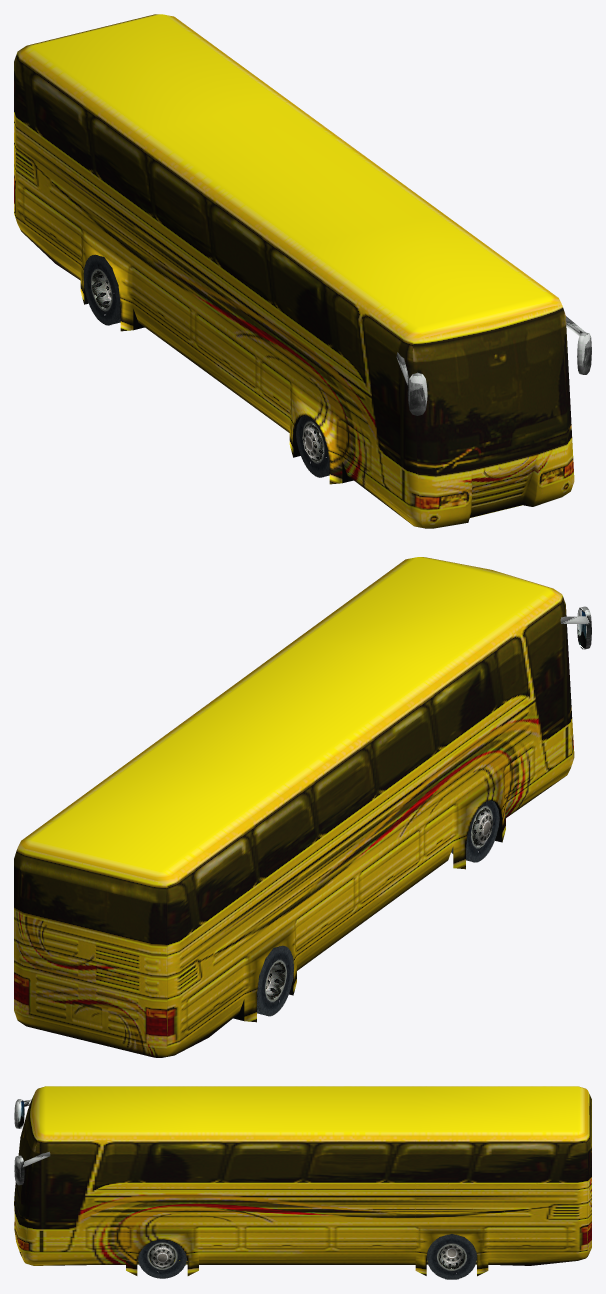
3 renders of one model, top to bottom at view 1: azimuth 30°, elevation 25°; view 2: azimuth 150°, elevation 25°; view 3: azimuth 270°, elevation 25°, orthographic. The views are drawn at different scales.
Parts seen in each view (by area): view 1: body_0, wheel_B_R_2, wheel_F_R_3; view 2: body_0, wheel_B_R_2, wheel_F_R_3; view 3: body_0, wheel_B_L_4, wheel_F_L_1.
Part boxes in pixels (bbox=[...]): body_0: bbox=[14, 14, 591, 528]; wheel_B_R_2: bbox=[83, 254, 120, 325]; wheel_F_R_3: bbox=[296, 415, 329, 477]; body_0: bbox=[14, 557, 591, 1057]; wheel_B_R_2: bbox=[257, 945, 293, 1016]; wheel_F_R_3: bbox=[451, 800, 499, 862]; body_0: bbox=[14, 1086, 591, 1276]; wheel_B_L_4: bbox=[427, 1234, 476, 1279]; wheel_F_L_1: bbox=[138, 1239, 187, 1278].
Size of the model in its own units: 3.16 by 3.35 by 12.38.
Materials: 13 (11 with a texture image).
